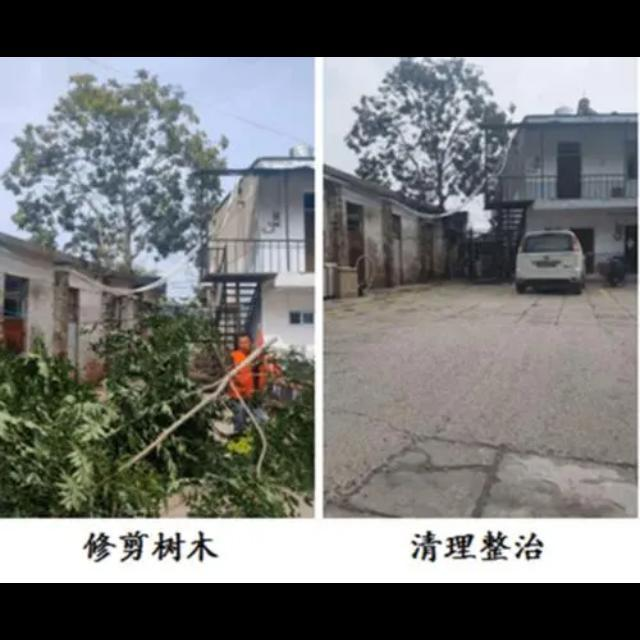fallen_tree: (1, 302, 305, 514)
